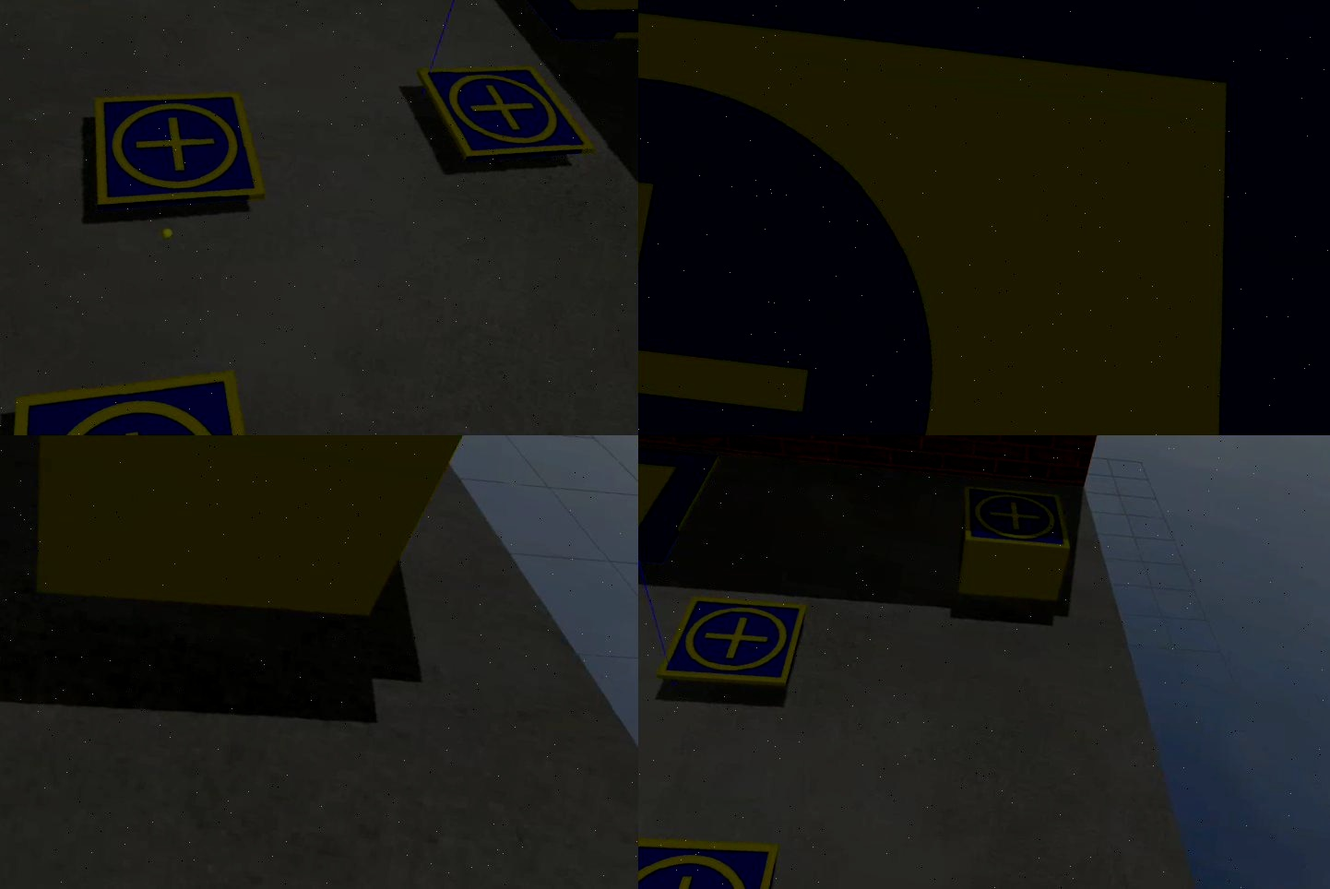large_base: (639, 1, 1330, 435), (423, 1, 639, 72), (639, 435, 718, 575)
small_base: (77, 71, 282, 238), (1, 338, 311, 435), (403, 49, 610, 188), (657, 590, 807, 698), (639, 815, 784, 889), (956, 480, 1080, 557)
